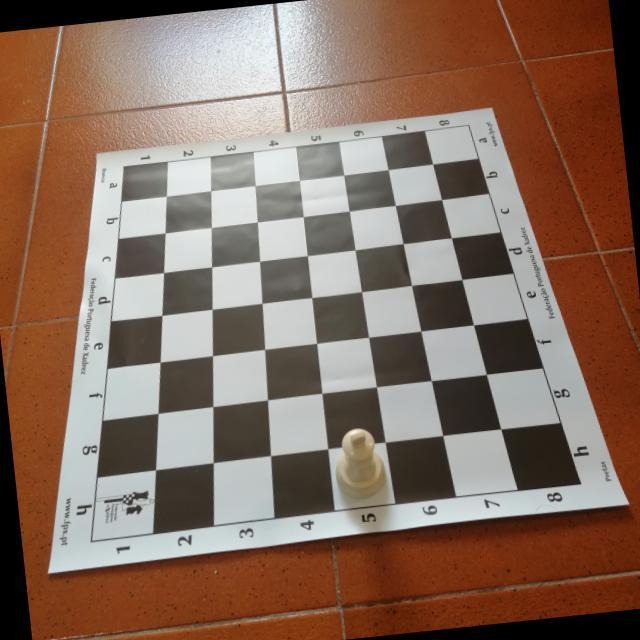white-king: (329, 423, 388, 502)
